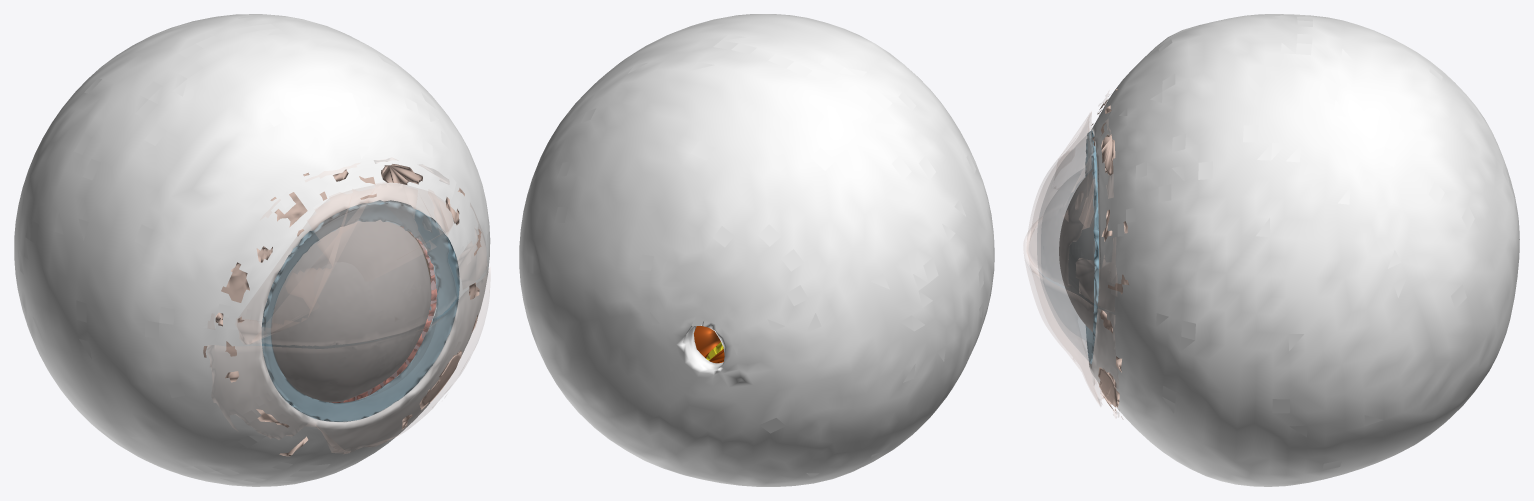
3 views of the same model, side by side, from view 1: azimuth 30°, elevation 25°; view 2: azimuth 150°, elevation 25°; view 3: azimuth 270°, elevation 25° (orthographic).
Parts seen in each view (by area): view 1: VH_F_sclera_L, VH_F_cornea_L, VH_F_palpebral_conjunctiva_of_left_upper_eyelid, VH_F_palpebral_conjunctiva_of_left_lower_eyelid, VH_F_aqueous_humor_L, VH_F_corneo_scleral_junction_L, VH_F_bulbar_conjunctiva_L, VH_F_ciliary_muscle_L; view 2: VH_F_sclera_L, VH_F_optic_choroid_L; view 3: VH_F_sclera_L, VH_F_cornea_L, VH_F_palpebral_conjunctiva_of_left_upper_eyelid, VH_F_palpebral_conjunctiva_of_left_lower_eyelid, VH_F_aqueous_humor_L, VH_F_bulbar_conjunctiva_L, VH_F_corneo_scleral_junction_L.
Part boxes in pixels (left/top/right/bottom): VH_F_sclera_L: left=14, top=14, right=490, bottom=486; VH_F_cornea_L: left=262, top=202, right=459, bottom=421; VH_F_palpebral_conjunctiva_of_left_upper_eyelid: left=208, top=158, right=486, bottom=345; VH_F_palpebral_conjunctiva_of_left_lower_eyelid: left=207, top=268, right=489, bottom=453; VH_F_aqueous_humor_L: left=271, top=220, right=431, bottom=402; VH_F_corneo_scleral_junction_L: left=261, top=200, right=459, bottom=421; VH_F_bulbar_conjunctiva_L: left=203, top=164, right=481, bottom=456; VH_F_ciliary_muscle_L: left=332, top=227, right=437, bottom=402; VH_F_sclera_L: left=519, top=14, right=994, bottom=486; VH_F_optic_choroid_L: left=694, top=326, right=724, bottom=363; VH_F_sclera_L: left=1089, top=14, right=1519, bottom=486; VH_F_cornea_L: left=1037, top=134, right=1097, bottom=363; VH_F_palpebral_conjunctiva_of_left_upper_eyelid: left=1027, top=91, right=1117, bottom=311; VH_F_palpebral_conjunctiva_of_left_lower_eyelid: left=1023, top=227, right=1119, bottom=417; VH_F_aqueous_humor_L: left=1059, top=169, right=1095, bottom=332; VH_F_bulbar_conjunctiva_L: left=1091, top=88, right=1128, bottom=419; VH_F_corneo_scleral_junction_L: left=1085, top=130, right=1098, bottom=363.
Size of the model in its own units: 0.0245 by 0.0244 by 0.0257.
